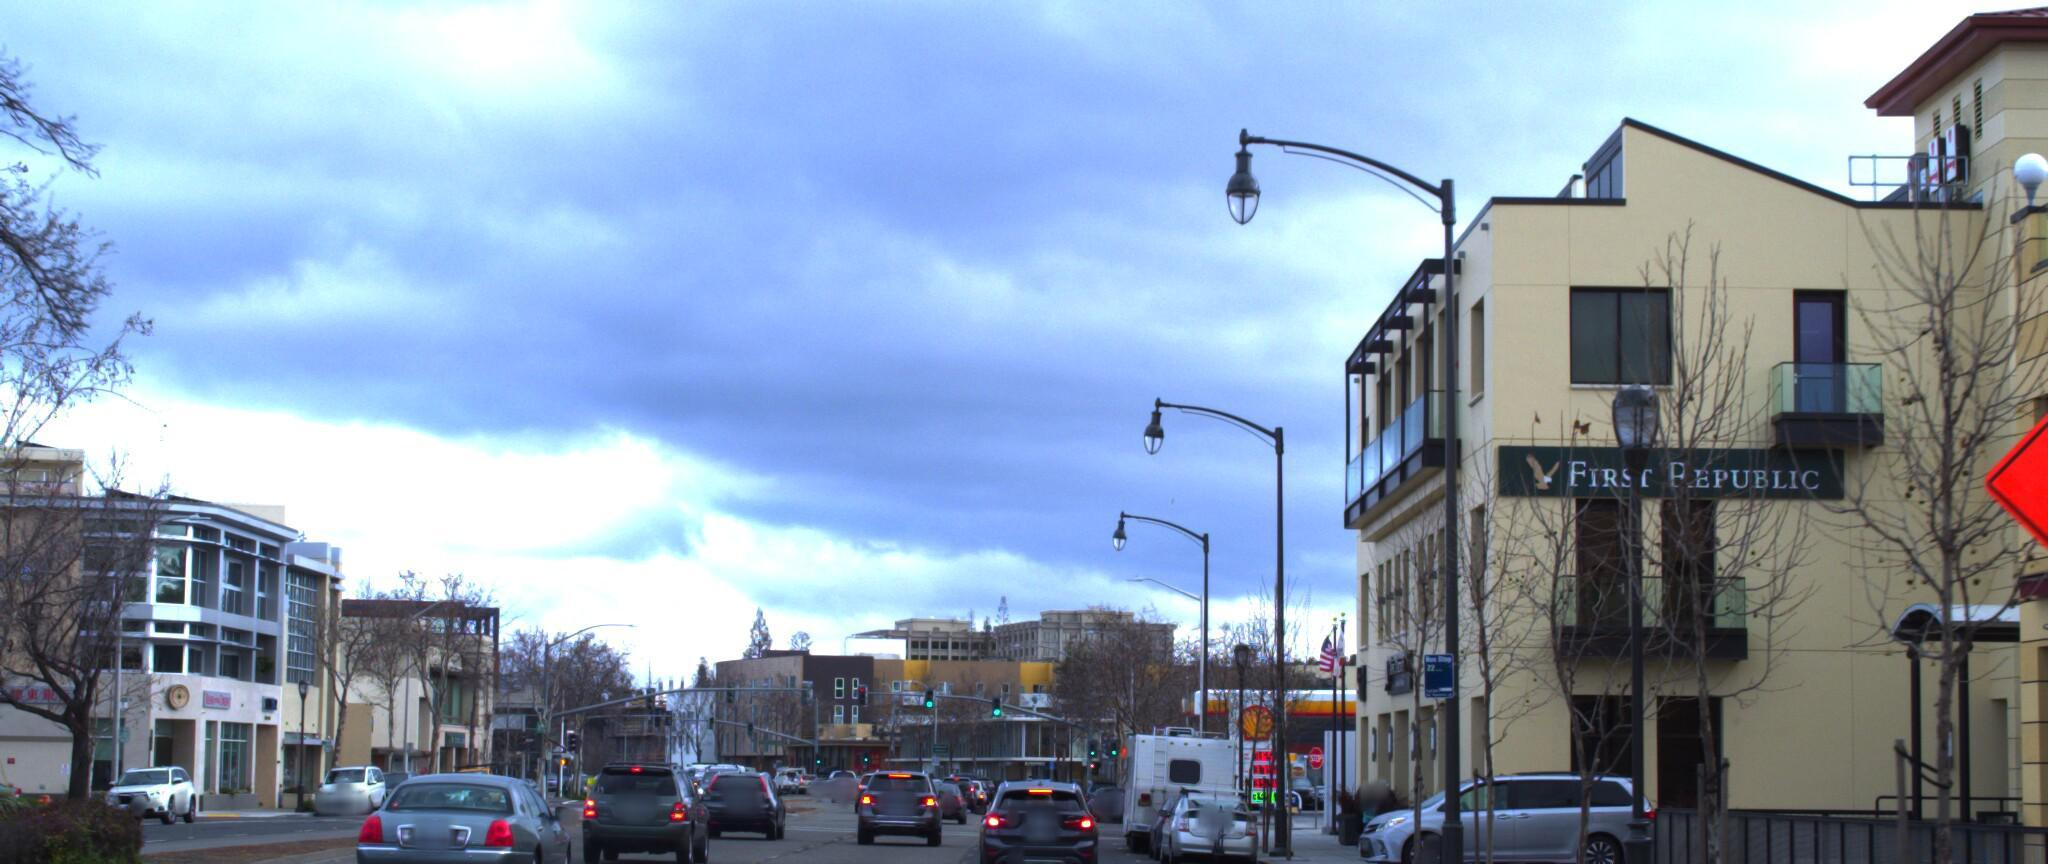car: (1344, 750, 1652, 863), (351, 767, 586, 864), (1115, 703, 1230, 841), (581, 753, 718, 861), (0, 710, 71, 864), (972, 780, 1098, 864), (1153, 769, 1262, 857), (697, 745, 789, 820), (852, 764, 935, 842)
